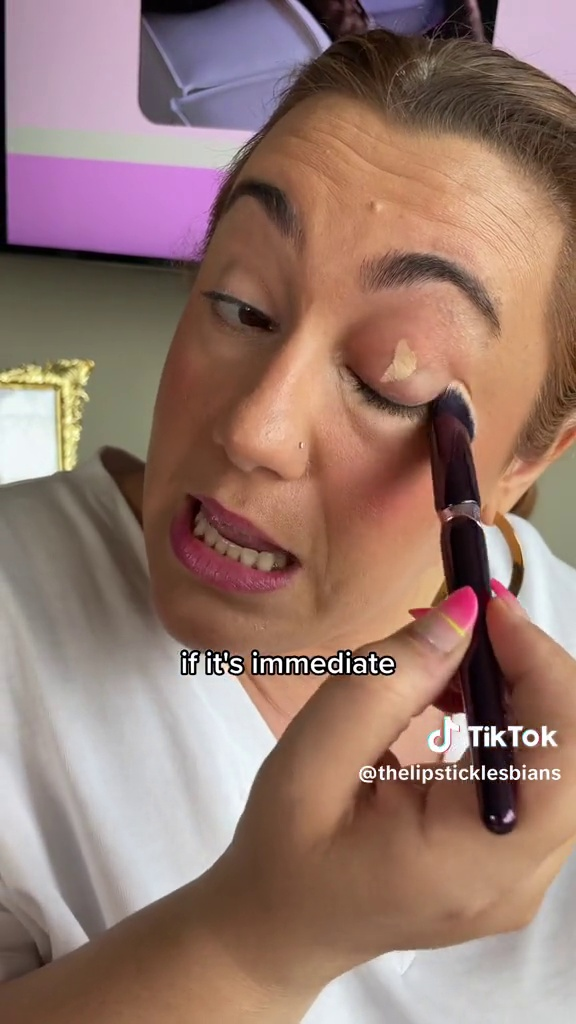train' :'yolo_data/train/images',: (419, 375, 539, 855)
